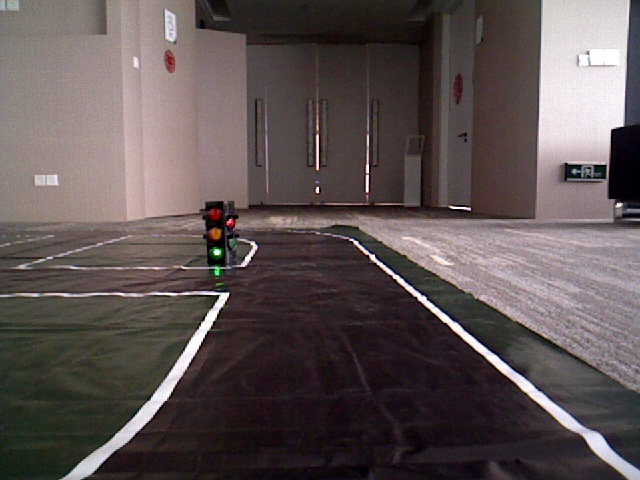green: (203, 201, 225, 260)
